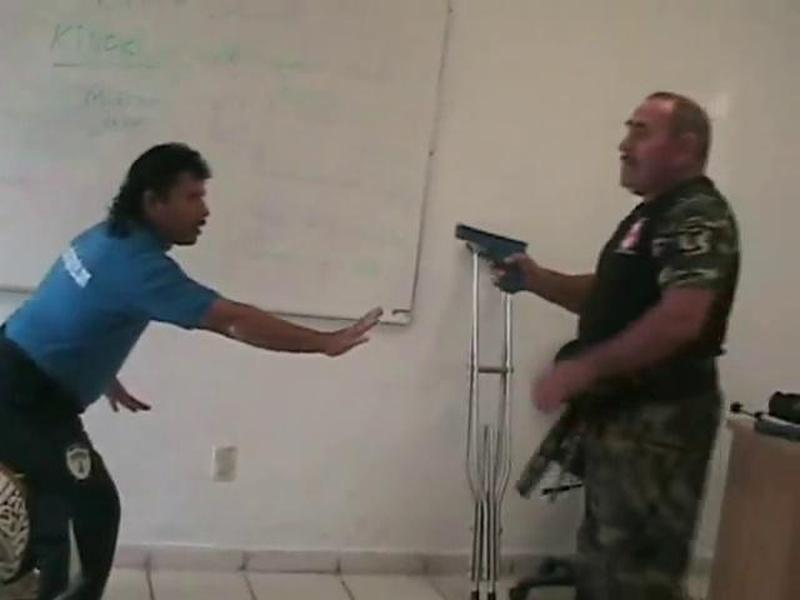Pistola: (447, 192, 529, 295)
